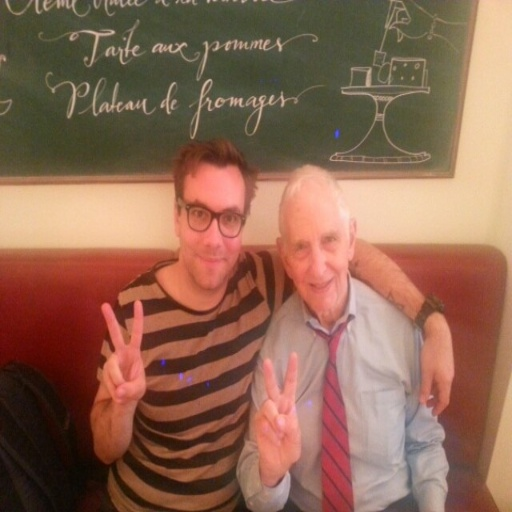hand: (248, 360, 308, 491), (98, 299, 147, 405), (417, 326, 457, 419)
